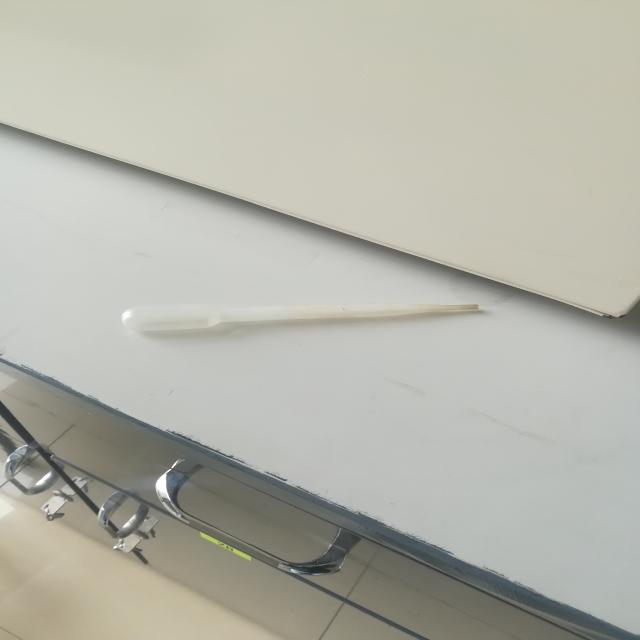Pipette: (61, 262, 492, 366)
